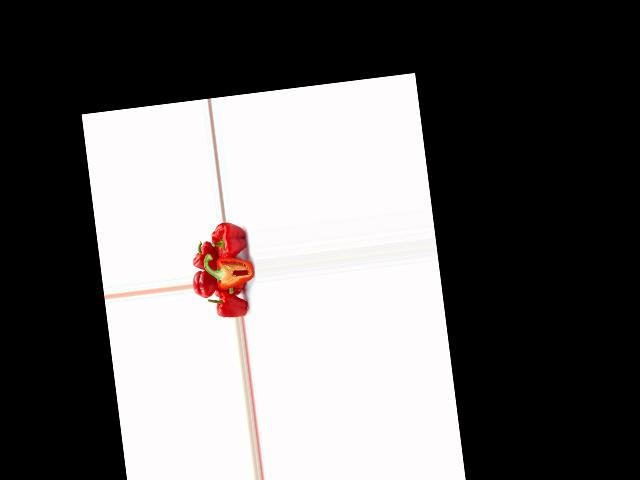bell_pepper: (190, 239, 217, 272)
